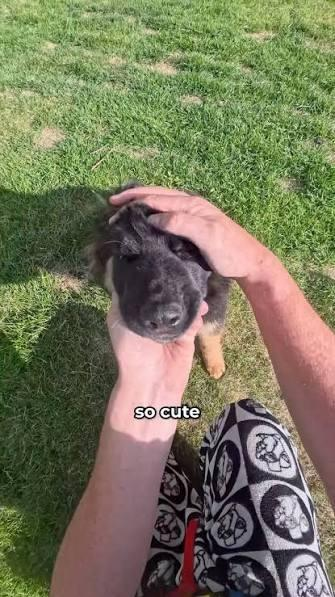puppy-dog: (79, 177, 232, 466)
